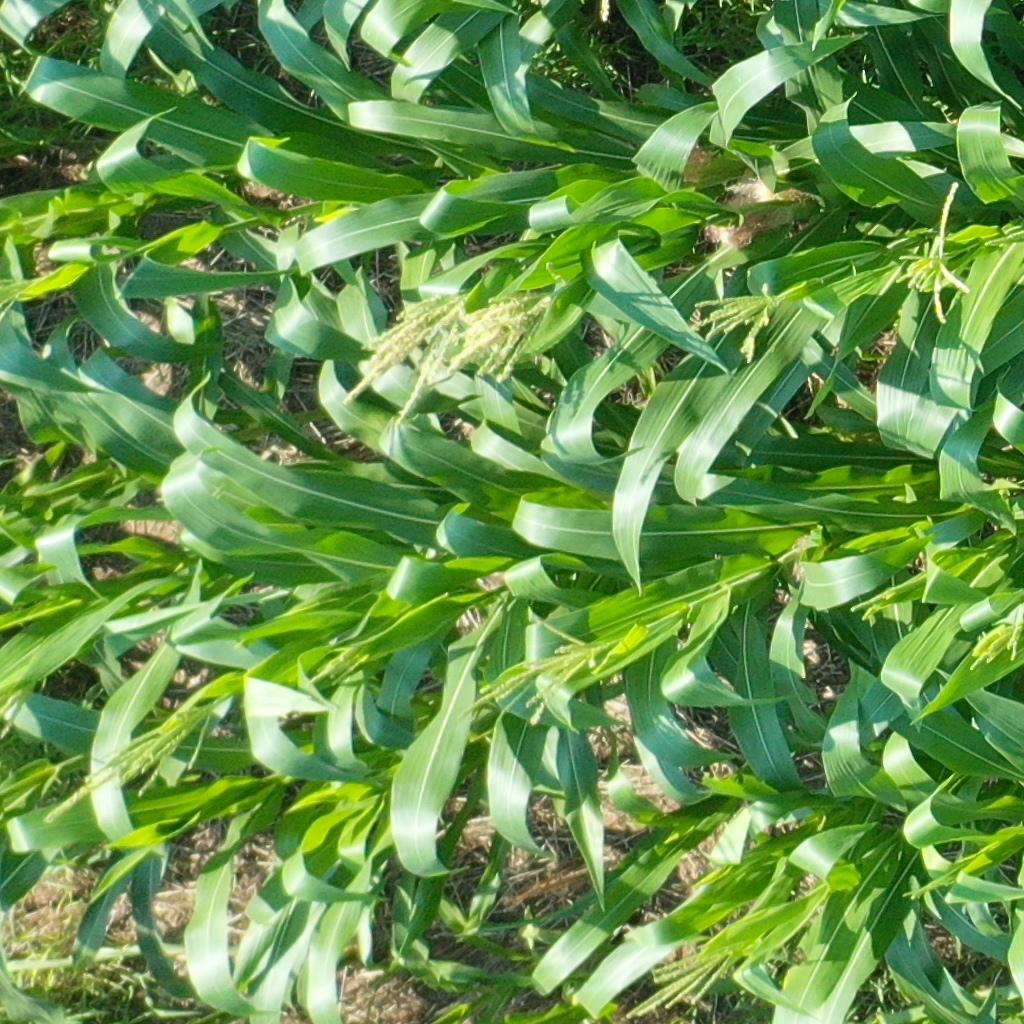Tassel: (33, 691, 221, 822), (337, 285, 477, 423), (461, 611, 622, 729), (892, 177, 977, 325), (620, 930, 749, 1021), (434, 297, 554, 382), (684, 287, 774, 365), (294, 641, 364, 691), (1, 669, 44, 747), (967, 614, 1024, 672), (840, 592, 891, 630), (1, 270, 32, 324)
